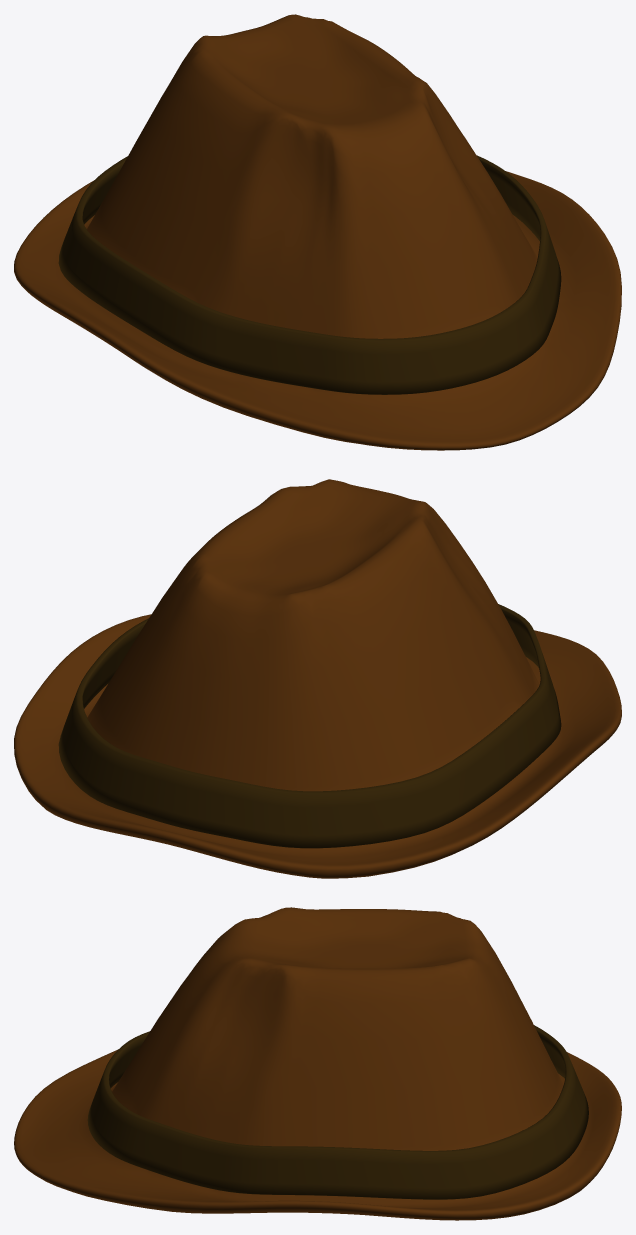
The model's file is Fedora.fbx.
3 views of the same model, one above another, from view 1: azimuth 30°, elevation 25°; view 2: azimuth 150°, elevation 25°; view 3: azimuth 270°, elevation 25° (orthographic). The views are drawn at different scales.
Parts seen in each view (by area): view 1: Hat, Ribbon; view 2: Hat, Ribbon; view 3: Hat, Ribbon.
Boxes of the visible parts, left/top/right/bottom form: Hat: left=14, top=14, right=621, bottom=450; Ribbon: left=58, top=155, right=561, bottom=394; Hat: left=14, top=479, right=621, bottom=878; Ribbon: left=58, top=604, right=561, bottom=848; Hat: left=14, top=907, right=621, bottom=1220; Ribbon: left=87, top=1025, right=588, bottom=1199.
Size of the model in its own units: 580 by 267 by 697.
